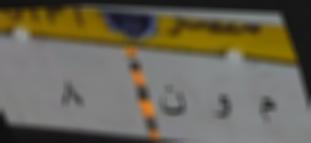8: (55, 76, 84, 111)
meem: (255, 92, 278, 127)
noon: (155, 76, 189, 121)
waw: (209, 91, 235, 125)
